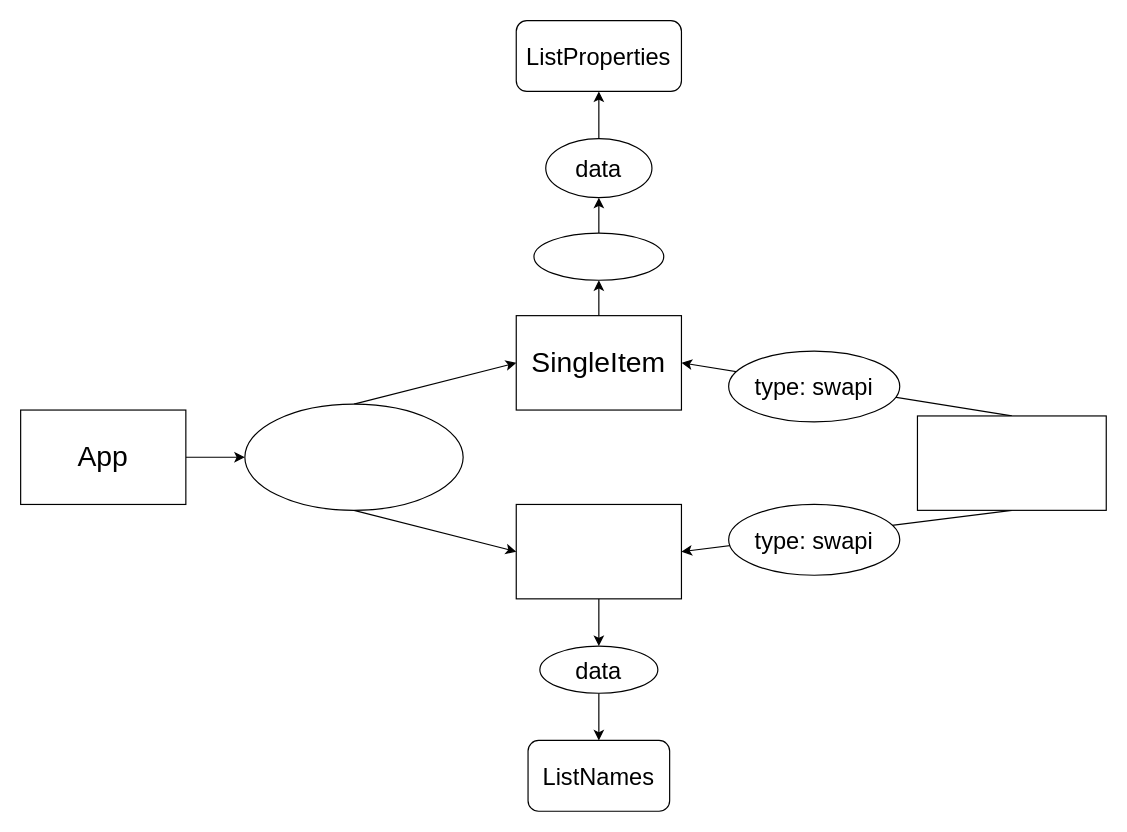
This 1127x832 diagram has some shape labels left out. Each missing label, with the centre of its shape:
"MiltipleItems" belongs at [598,551].
"SwapiService" belongs at [1011,462].
"type" belongs at [598,256].
"type: Planet, Person, Starship" belongs at [353,456].
